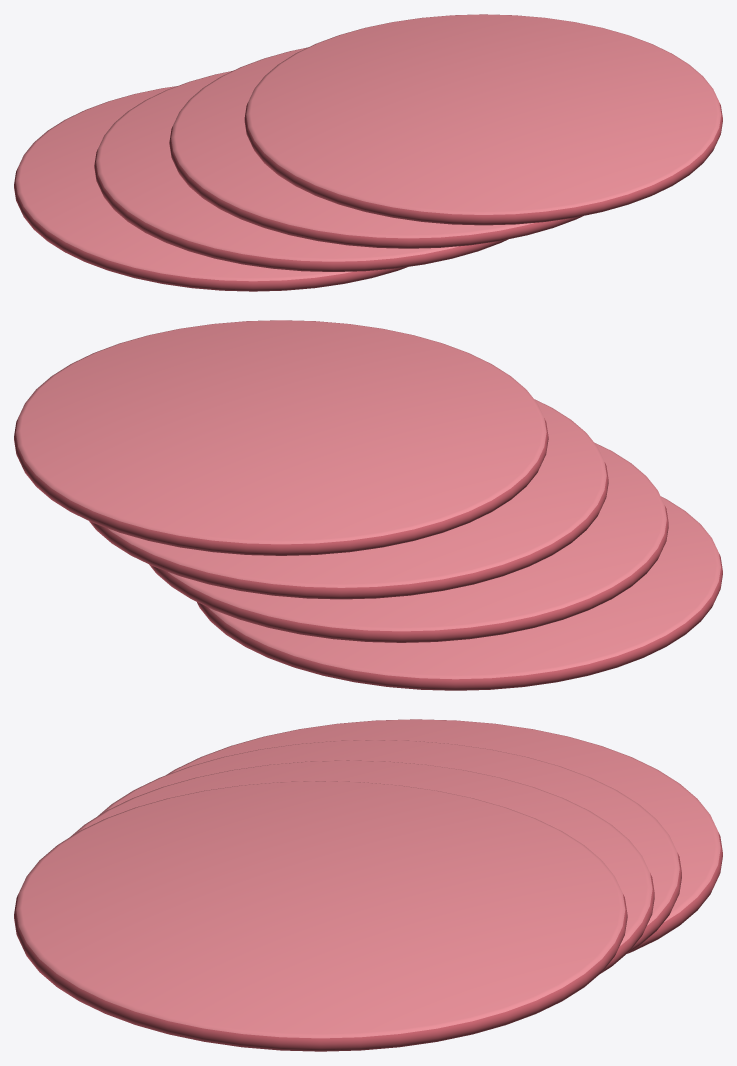
The model's file is Ham_Slices.fbx.
The picture shows the model from 3 angles, top to bottom: view 1: azimuth 30°, elevation 25°; view 2: azimuth 150°, elevation 25°; view 3: azimuth 270°, elevation 25°; orthographic projection. The views are drawn at different scales.
Parts seen in each view (by area): view 1: Ham_Slices; view 2: Ham_Slices; view 3: Ham_Slices.
Part boxes in pixels (box(x1,y1,x2,y2)): Ham_Slices: box(14, 14, 722, 291); Ham_Slices: box(14, 320, 722, 690); Ham_Slices: box(14, 719, 722, 1051).
Bounding box in the file's own units: 0.132 × 0.0124 × 0.104.
